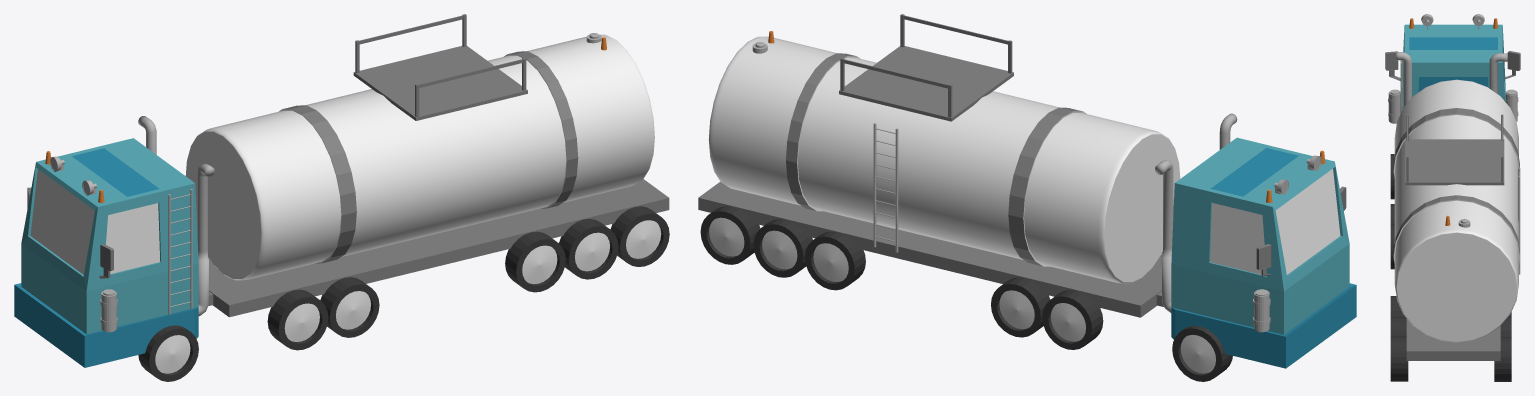
Rendered from Oil Blue.fbx.
3 views of the same model, side by side, from view 1: azimuth 30°, elevation 25°; view 2: azimuth 150°, elevation 25°; view 3: azimuth 270°, elevation 25° (orthographic). The views are drawn at different scales.
Parts seen in each view (by area): view 1: Cylinder.015, Truck Body.005, Cube.003, Cylinder.039, Cylinder.043, Cylinder.041, Cylinder.040, Cylinder.042, Cylinder.038, Cylinder.016, Cylinder.019, Cylinder.034; view 2: Cylinder.015, Truck Body.005, Cube.003, Cylinder.046, Cylinder.048, Cylinder.045, Cylinder.049, Cylinder.047, Cylinder.044, Cylinder.017, Cylinder.018, Cylinder.035; view 3: Cylinder.015, Truck Body.005, Cube.003, Cylinder.042, Cylinder.049, Cylinder.016, Cylinder.017, Cylinder.034, Cylinder.041, Cube.006, Cube.007, Cylinder.035 (+8 smaller).
Boxes of the visible parts, box(x1,y1,x2,y2) form: Cylinder.015: box(185, 34, 654, 280); Truck Body.005: box(14, 138, 669, 367); Cube.003: box(353, 14, 527, 120); Cylinder.039: box(267, 289, 328, 350); Cylinder.043: box(505, 231, 565, 292); Cylinder.041: box(559, 219, 618, 279); Cylinder.040: box(320, 277, 379, 337); Cylinder.042: box(610, 206, 669, 266); Cylinder.038: box(138, 325, 198, 381); Cylinder.016: box(197, 164, 214, 316); Cylinder.019: box(168, 189, 192, 314); Cylinder.034: box(100, 289, 117, 332); Cylinder.015: box(708, 36, 1180, 283); Truck Body.005: box(698, 137, 1356, 368); Cube.003: box(839, 14, 1013, 121); Cylinder.046: box(1042, 290, 1103, 349); Cylinder.048: box(805, 231, 865, 290); Cylinder.045: box(991, 277, 1050, 337); Cylinder.049: box(700, 206, 760, 264); Cylinder.047: box(753, 219, 812, 277); Cylinder.044: box(1172, 326, 1232, 381); Cylinder.017: box(1155, 160, 1173, 312); Cylinder.018: box(873, 123, 898, 252); Cylinder.035: box(1253, 289, 1270, 332); Cylinder.015: box(1393, 79, 1519, 342); Truck Body.005: box(1402, 24, 1505, 360); Cube.003: box(1405, 114, 1504, 185); Cylinder.042: box(1390, 336, 1408, 381); Cylinder.049: box(1494, 336, 1511, 381); Cylinder.016: box(1396, 52, 1411, 106); Cylinder.017: box(1489, 53, 1507, 93); Cylinder.034: box(1388, 89, 1400, 123); Cylinder.041: box(1390, 316, 1406, 336); Cube.006: box(1385, 51, 1400, 80); Cube.007: box(1505, 51, 1520, 79); Cylinder.035: box(1505, 89, 1518, 121).
Bounding box in the file's own units: 899 × 330 × 224.
